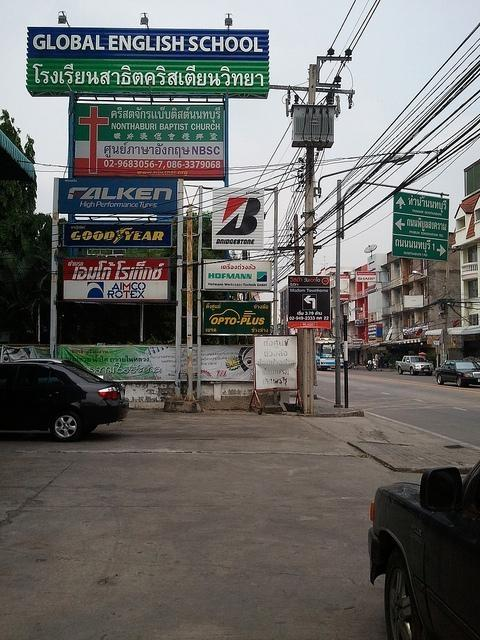bus: (314, 338, 344, 370)
car: (368, 457, 480, 640), (0, 360, 130, 446), (432, 361, 480, 386), (396, 355, 434, 377)
motorcycle: (365, 358, 378, 372)
